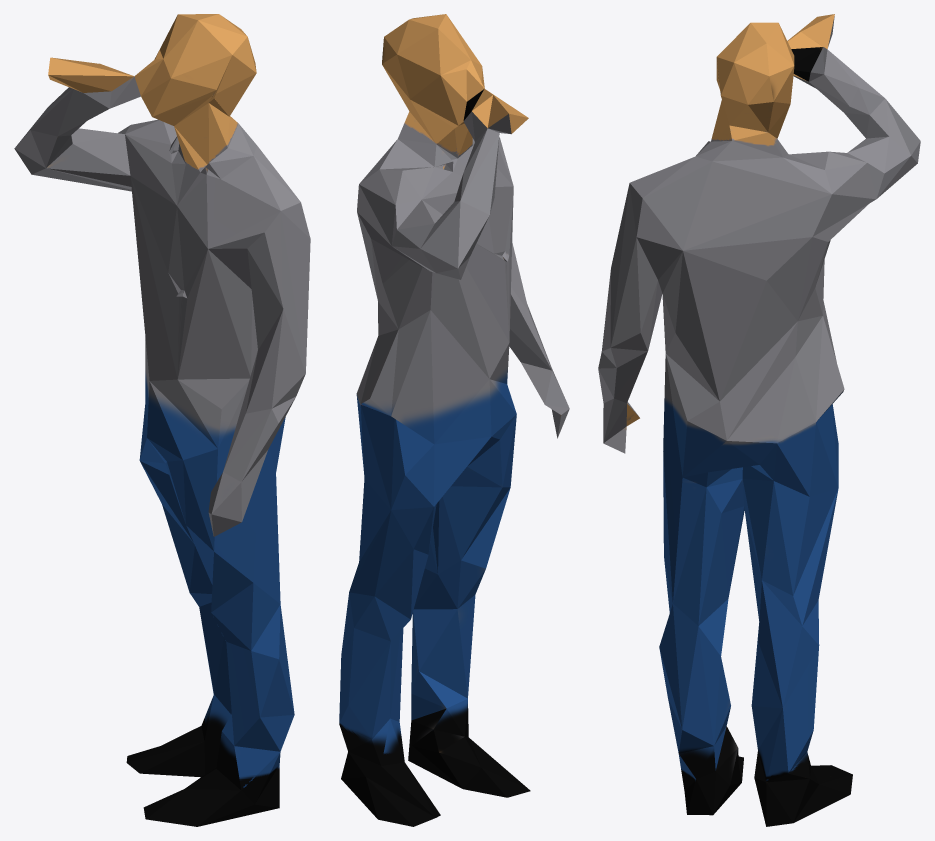
Rendered from people.obj.
3 renders of one model, left to right at view 1: azimuth 30°, elevation 25°; view 2: azimuth 150°, elevation 25°; view 3: azimuth 270°, elevation 25°, orthographic.
Visible parts, largest first — view 1: 216_person_tmp.o.165; view 2: 216_person_tmp.o.165; view 3: 216_person_tmp.o.165.
Boxes of the visible parts, left/top/right/bottom form: 216_person_tmp.o.165: left=14, top=14, right=310, bottom=826; 216_person_tmp.o.165: left=339, top=14, right=569, bottom=826; 216_person_tmp.o.165: left=598, top=14, right=920, bottom=826.
Size of the model in its own units: 0.5114 by 1.85 by 0.7049.
1 material, 1 textured.
